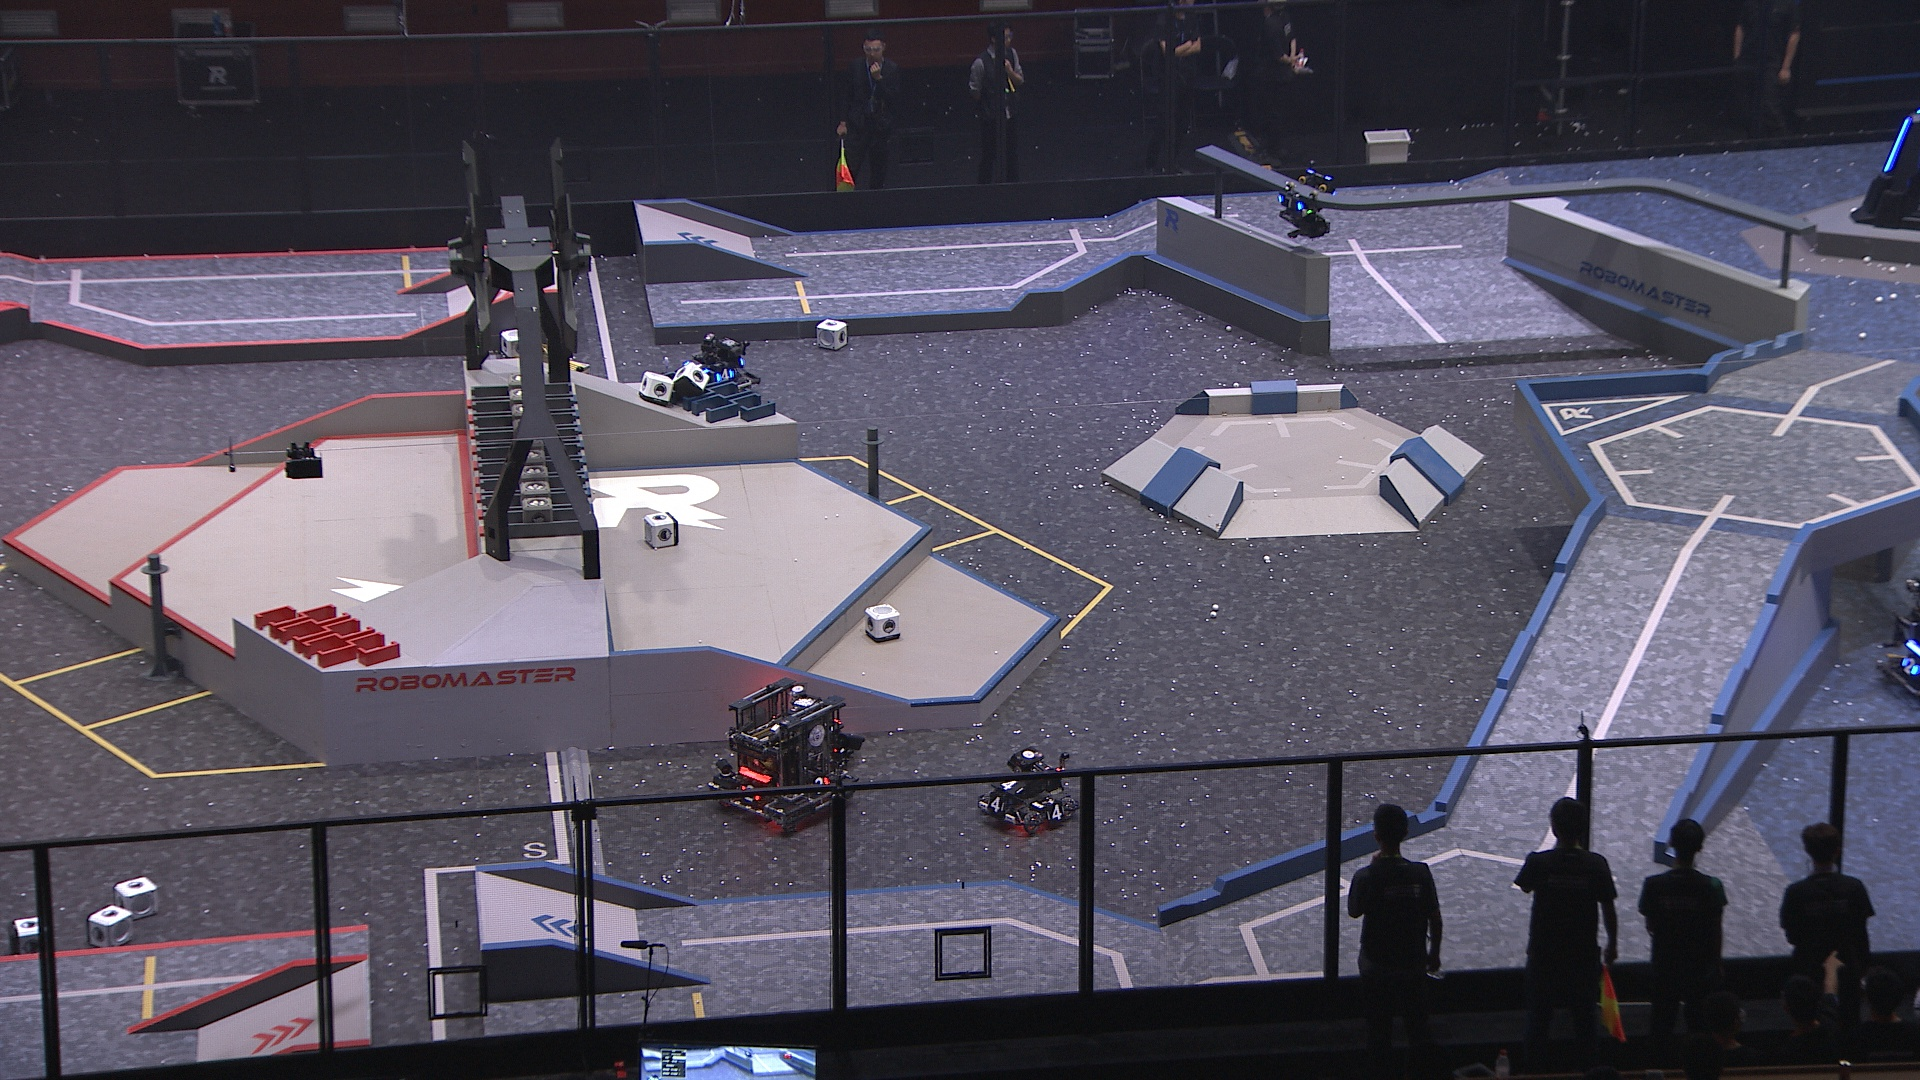armor: (1883, 116, 1915, 177), (737, 782, 764, 806), (1276, 193, 1305, 214), (812, 771, 836, 793), (1899, 654, 1920, 678), (1000, 777, 1025, 796), (986, 796, 1007, 818), (1044, 802, 1065, 822), (713, 367, 733, 382)
base: (1844, 111, 1920, 232)
car: (705, 674, 858, 832), (969, 742, 1087, 837), (671, 334, 767, 396), (1878, 570, 1920, 702)
watcher: (1273, 158, 1340, 243)
